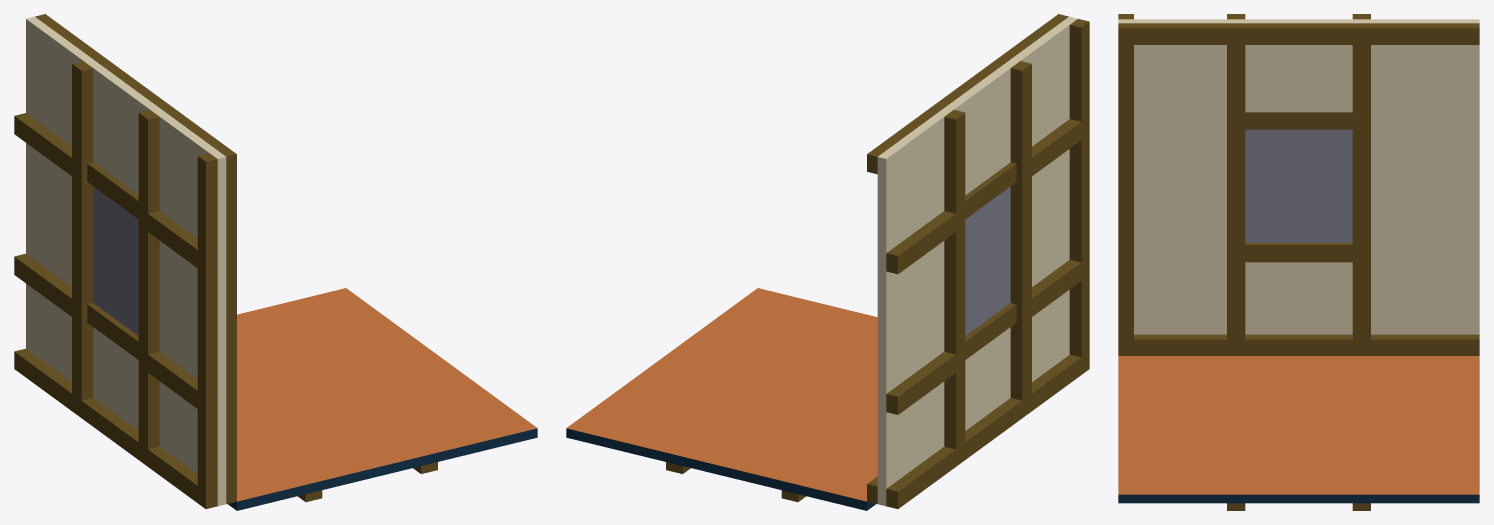
File: WindowWF.fbx
3 renders of one model, left to right at view 1: azimuth 30°, elevation 25°; view 2: azimuth 150°, elevation 25°; view 3: azimuth 270°, elevation 25°, orthographic. The views are drawn at different scales.
Visible parts, largest first — view 1: pCube134; view 2: pCube134; view 3: pCube134.
Part boxes in pixels (bbox=[...]): pCube134: bbox=[14, 14, 537, 510]; pCube134: bbox=[566, 14, 1089, 510]; pCube134: bbox=[1118, 14, 1479, 510].
Bounding box in the file's own units: 3 × 3.15 × 3.
